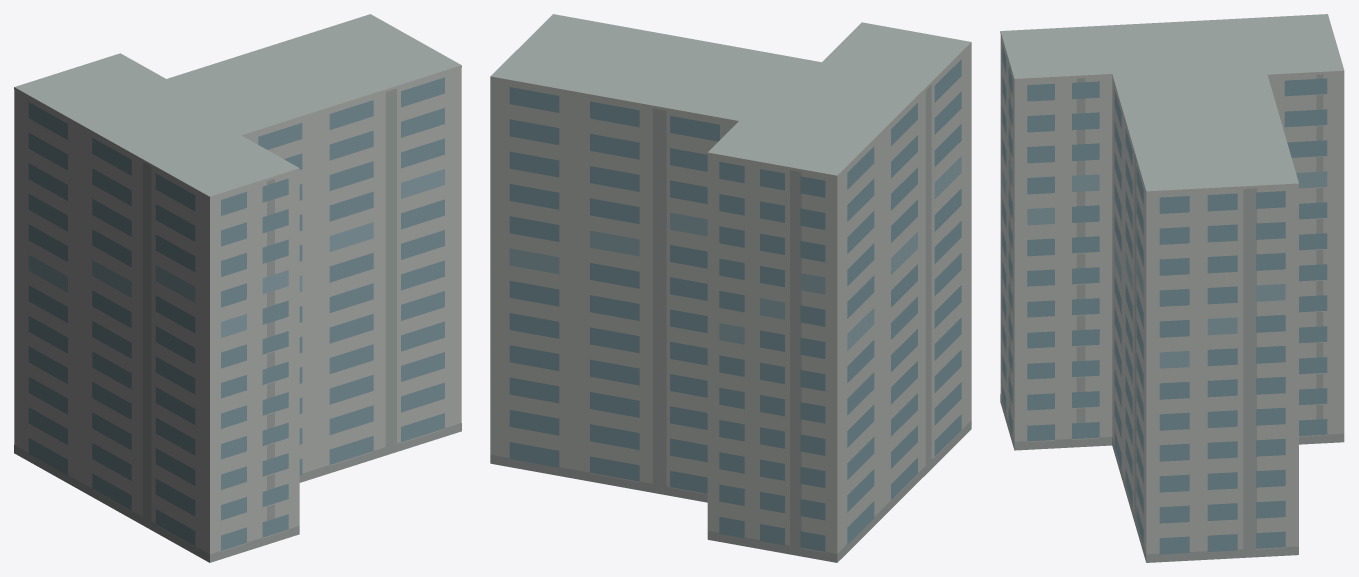
The model's file is residential-dcd52756-da04-4d31-b884-bef8f16c231a.glb.
The picture shows the model from 3 angles, left to right: view 1: azimuth 30°, elevation 25°; view 2: azimuth 150°, elevation 25°; view 3: azimuth 270°, elevation 25°; orthographic projection. The views are drawn at different scales.
Parts seen in each view (by area): view 1: residential-dcd52756-da04-4d31-b884-bef8f16c231a.tmp; view 2: residential-dcd52756-da04-4d31-b884-bef8f16c231a.tmp; view 3: residential-dcd52756-da04-4d31-b884-bef8f16c231a.tmp.
Boxes of the visible parts, left/top/right/bottom form: residential-dcd52756-da04-4d31-b884-bef8f16c231a.tmp: left=14, top=14, right=461, bottom=562; residential-dcd52756-da04-4d31-b884-bef8f16c231a.tmp: left=490, top=14, right=971, bottom=562; residential-dcd52756-da04-4d31-b884-bef8f16c231a.tmp: left=1000, top=14, right=1344, bottom=562.
Size of the model in its own units: 34.81 by 34 by 28.53.
